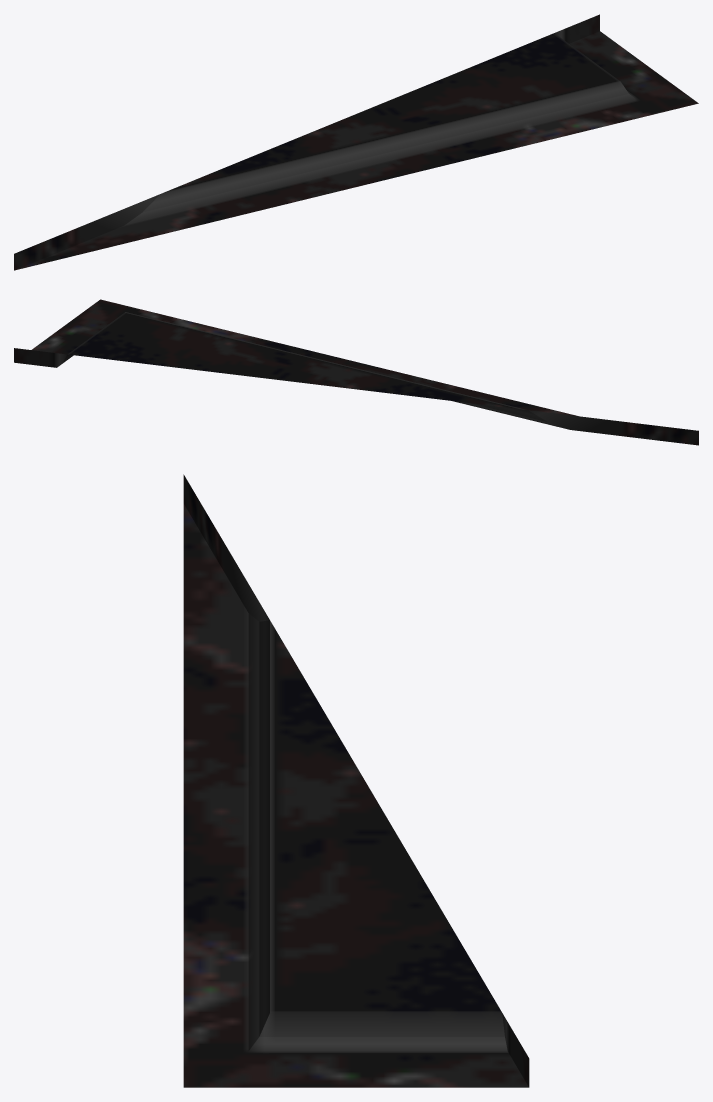
Rendered from sec1_1c_slice64high.fbx.
The picture shows the model from 3 angles, top to bottom: view 1: azimuth 30°, elevation 25°; view 2: azimuth 150°, elevation 25°; view 3: azimuth 270°, elevation 25°; orthographic projection. The views are drawn at different scales.
Visible parts, largest first — view 1: sec1_1c_mesh; view 2: sec1_1c_mesh; view 3: sec1_1c_mesh.
Part boxes in pixels (box(x1,y1,x2,y2)): sec1_1c_mesh: box(14, 14, 698, 270); sec1_1c_mesh: box(14, 299, 698, 445); sec1_1c_mesh: box(183, 474, 529, 1087).
Bounding box in the file's own units: 256 × 6 × 64.
